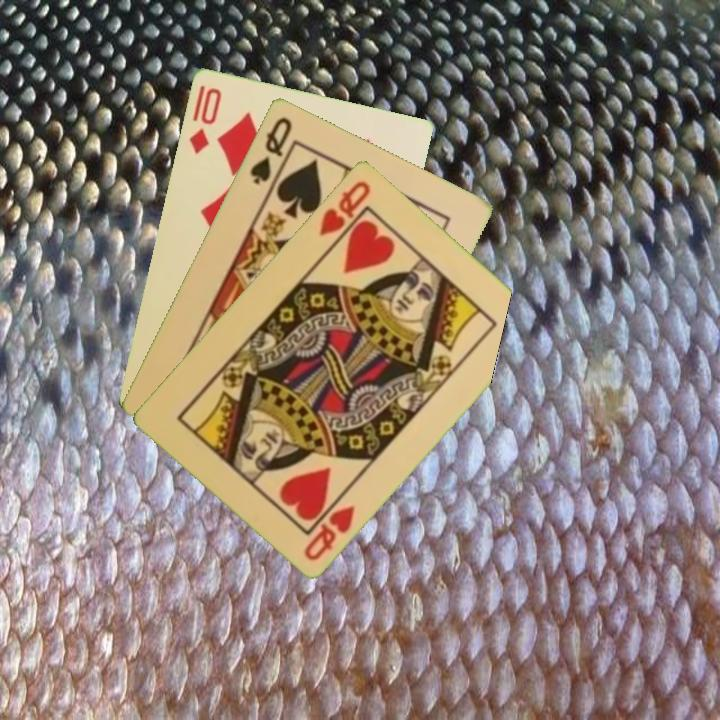10d: (185, 83, 225, 157)
Qh: (315, 177, 374, 239), (300, 501, 358, 563)
Qs: (246, 113, 295, 187)
